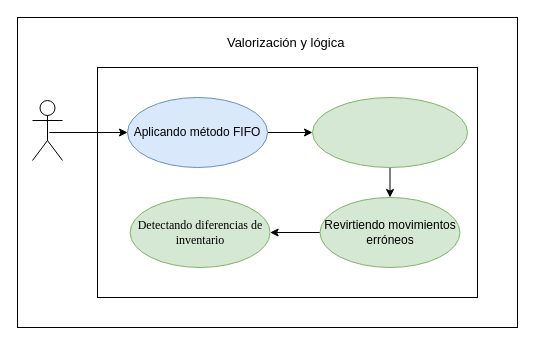
Some shapes in this 535 by 345 pixel diagram are drawn without their labels. Each missing label, with the centre of its shape:
"Gerencia" goes at (47,130).
"Validando autorización de reversión" goes at (390,132).
